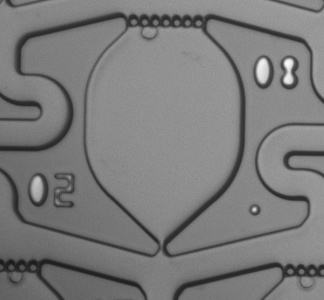AptNum: (246, 52, 308, 97)
Marker: (240, 197, 270, 224)
StNum: (20, 167, 82, 217)
Trap: (140, 244, 184, 286)
